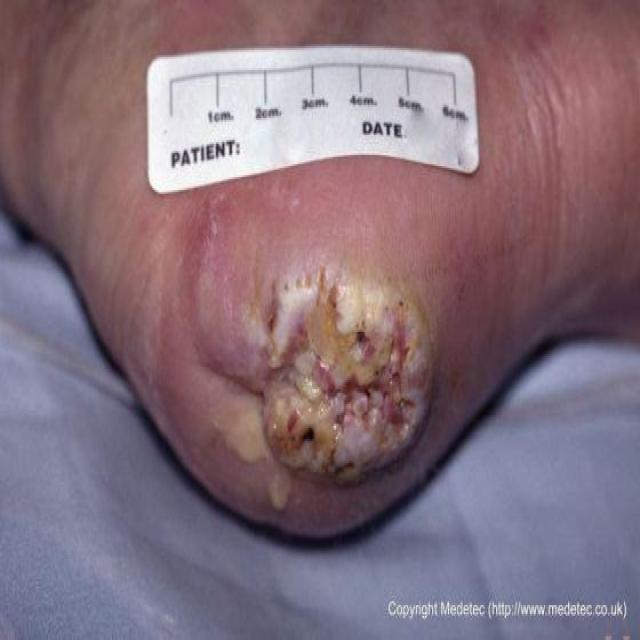Unstageable: (255, 272, 440, 489)
